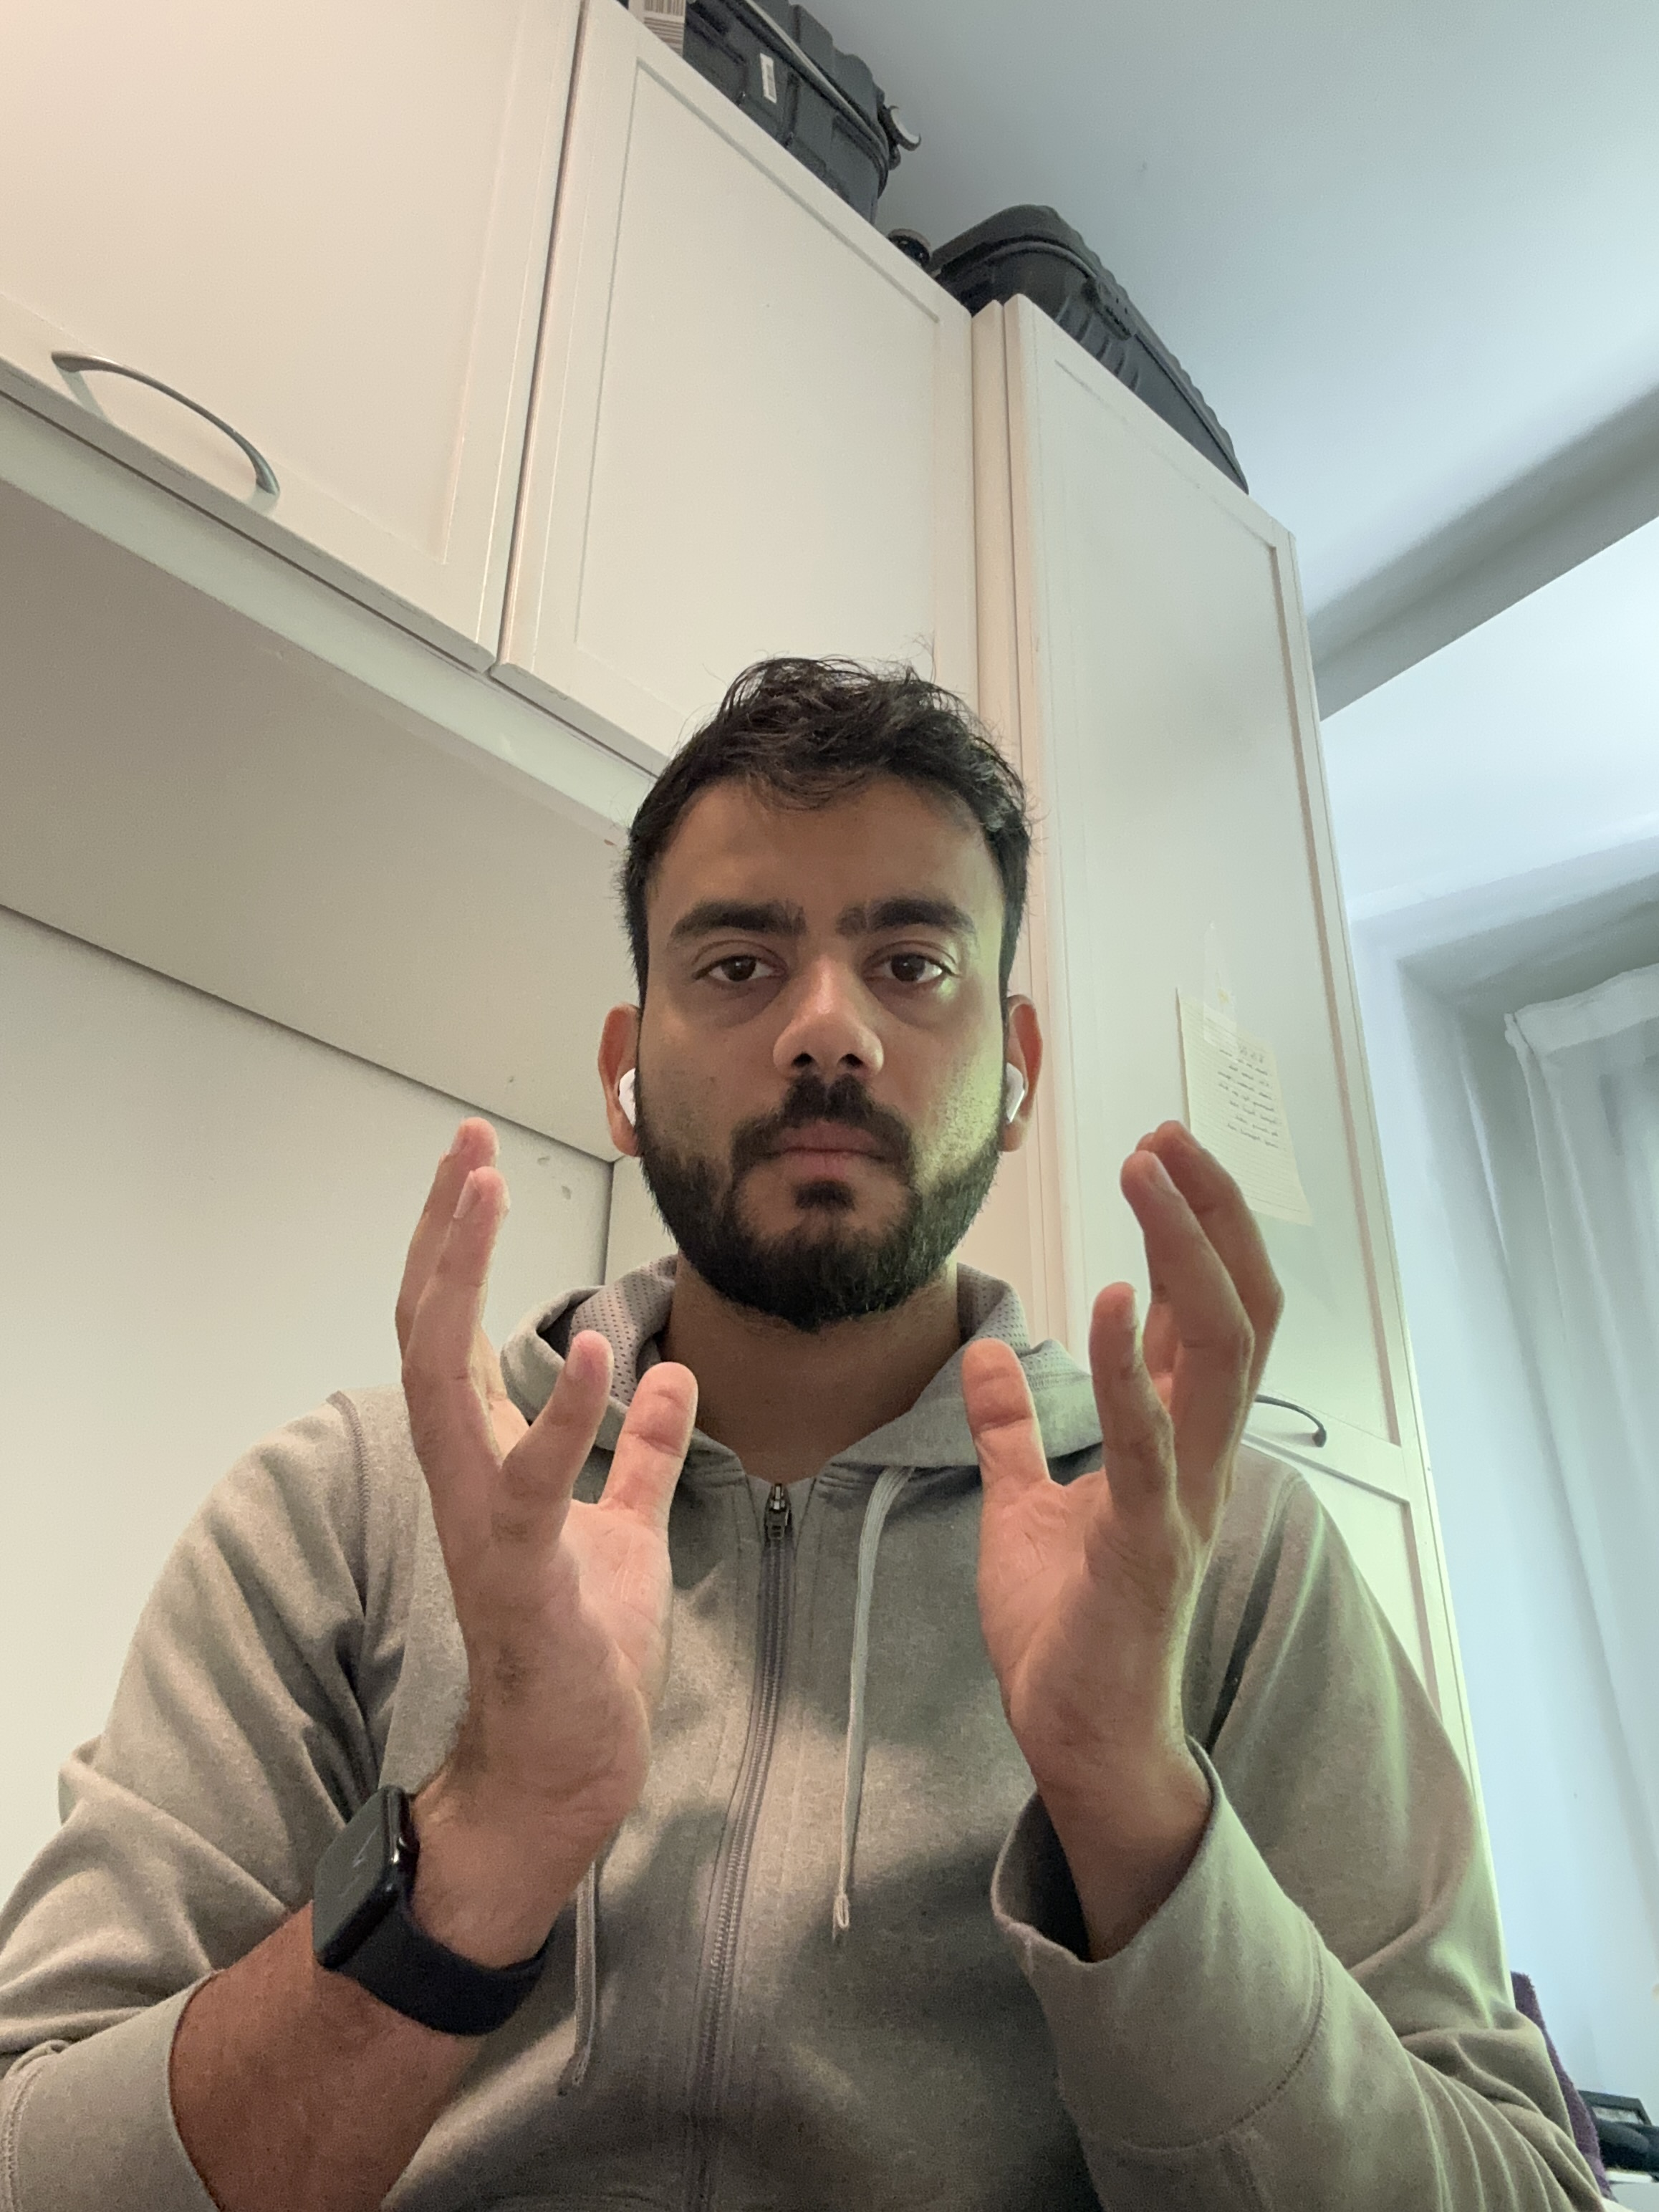group: (5, 650, 1615, 2203)
